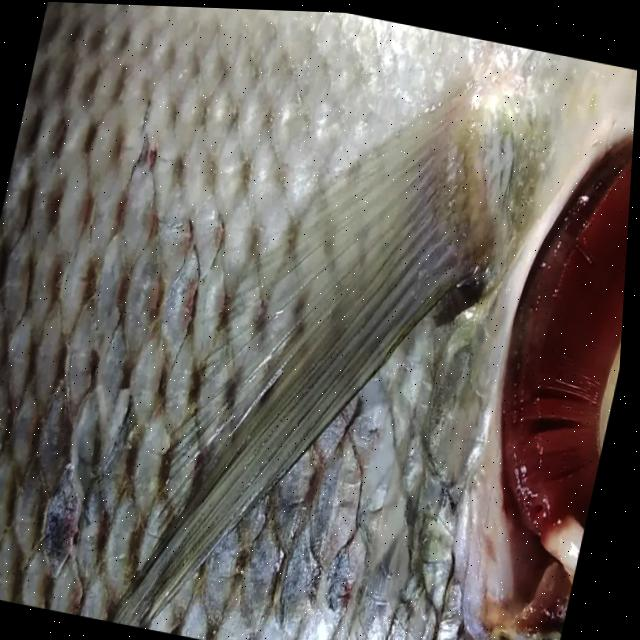Fresh: (465, 90, 636, 580)
